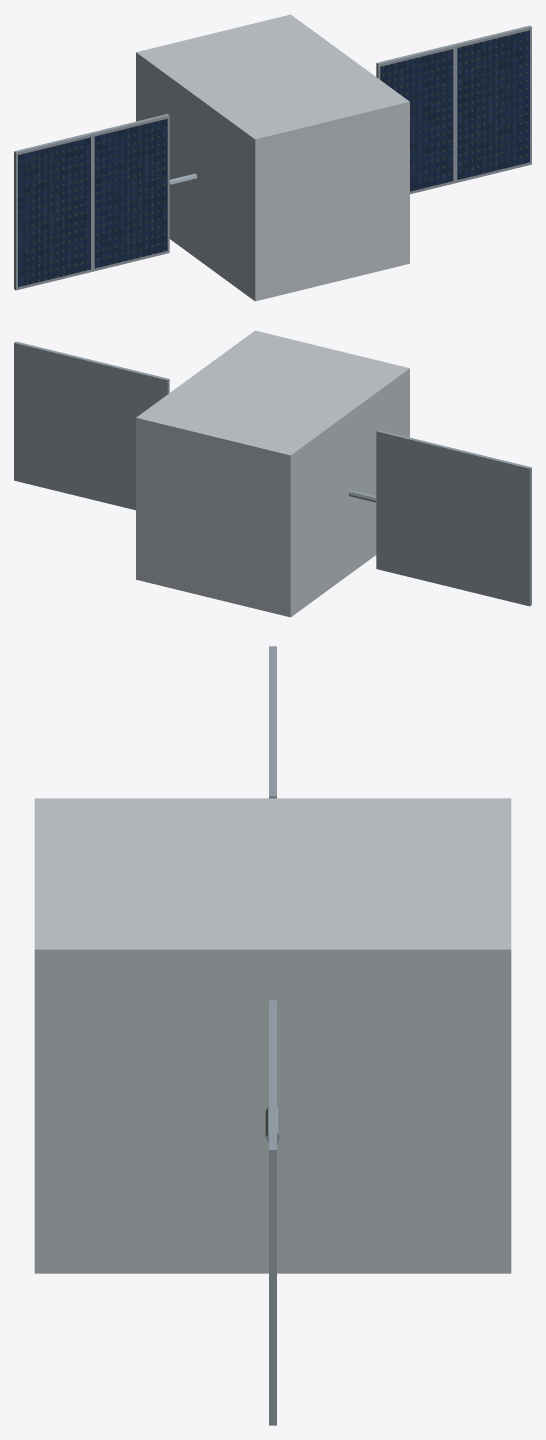
File: ref-droid-63223.glb
3 views of the same model, one above another, from view 1: azimuth 30°, elevation 25°; view 2: azimuth 150°, elevation 25°; view 3: azimuth 270°, elevation 25° (orthographic). The views are drawn at different scales.
Visible parts, largest first — view 1: Spacecraft body, Photovoltaic laminates (×4), Array frame (×4); view 2: Spacecraft body, Array frame (×4); view 3: Spacecraft body, Array frame.
Part boxes in pixels (x1,y1,x2,y2): Spacecraft body: (136,14,409,301); Photovoltaic laminates (×4): (18,30,529,287); Array frame (×4): (14,25,531,290); Spacecraft body: (136,330,409,617); Array frame (×4): (14,341,531,606); Spacecraft body: (34,798,511,1273); Array frame: (269,1075,276,1425).
Size of the model in its own units: 2 by 0.6 by 0.8.
3 materials, 1 textured.
